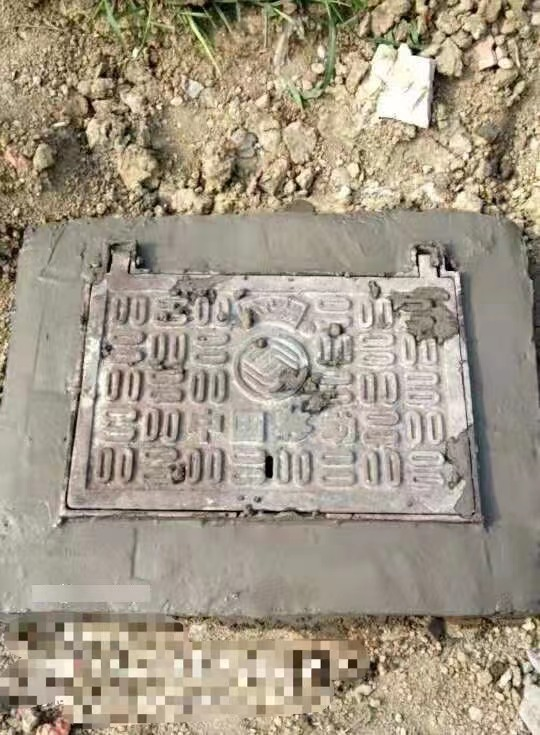well: (57, 257, 487, 524)
